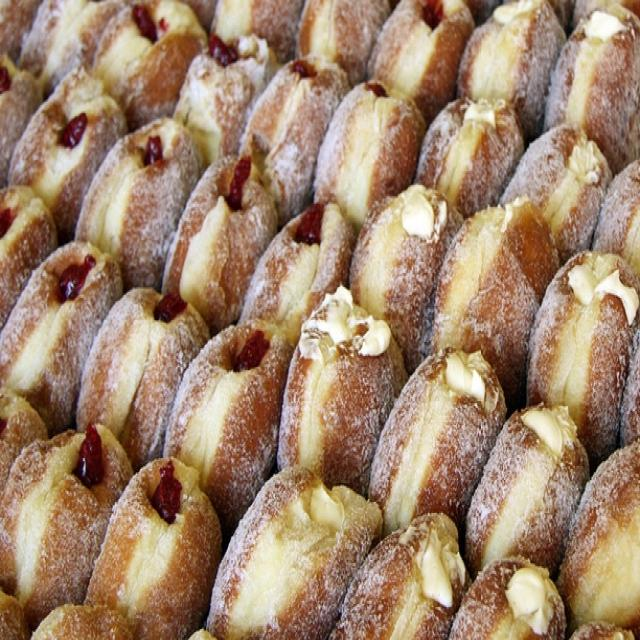炸货点心: (11, 12, 630, 622)
